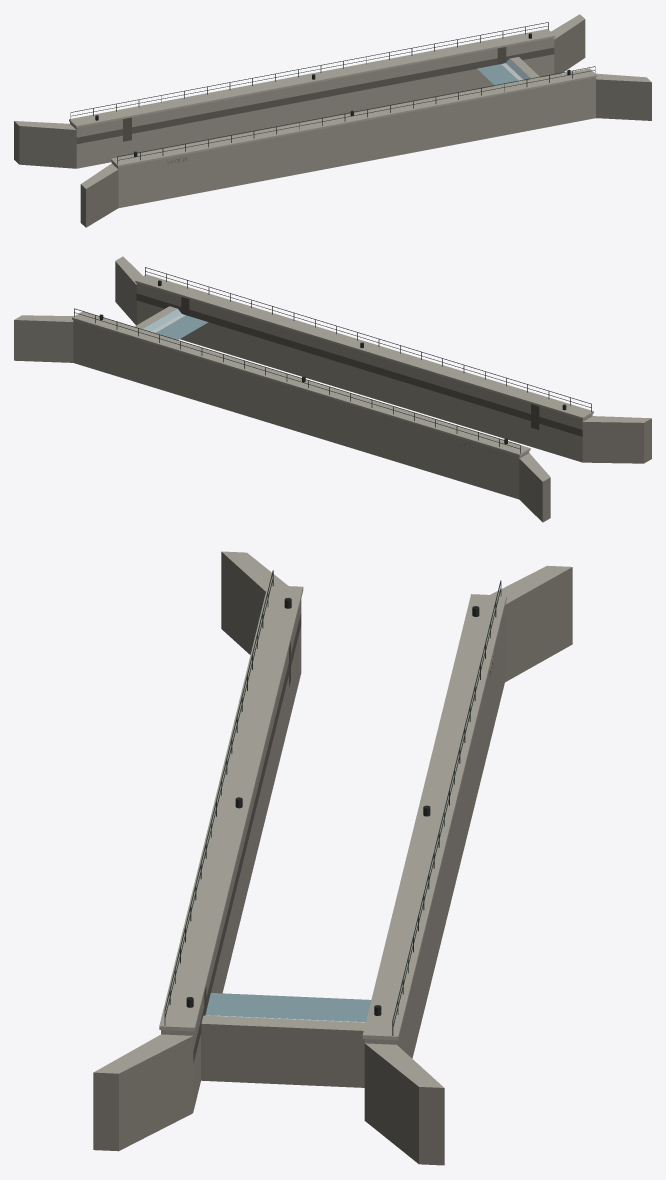
The model's file is lock29.glb.
3 renders of one model, top to bottom at view 1: azimuth 30°, elevation 25°; view 2: azimuth 150°, elevation 25°; view 3: azimuth 270°, elevation 25°, orthographic. The views are drawn at different scales.
Parts seen in each view (by area): view 1: lock29_lod0; view 2: lock29_lod0; view 3: lock29_lod0.
Boxes of the visible parts, x1,y1,x2,y2 form: lock29_lod0: (14,14,651,227); lock29_lod0: (14,256,651,522); lock29_lod0: (93,551,572,1165).
Size of what is drawn, in the model's own units: 78.7 by 6.97 by 29.72.
